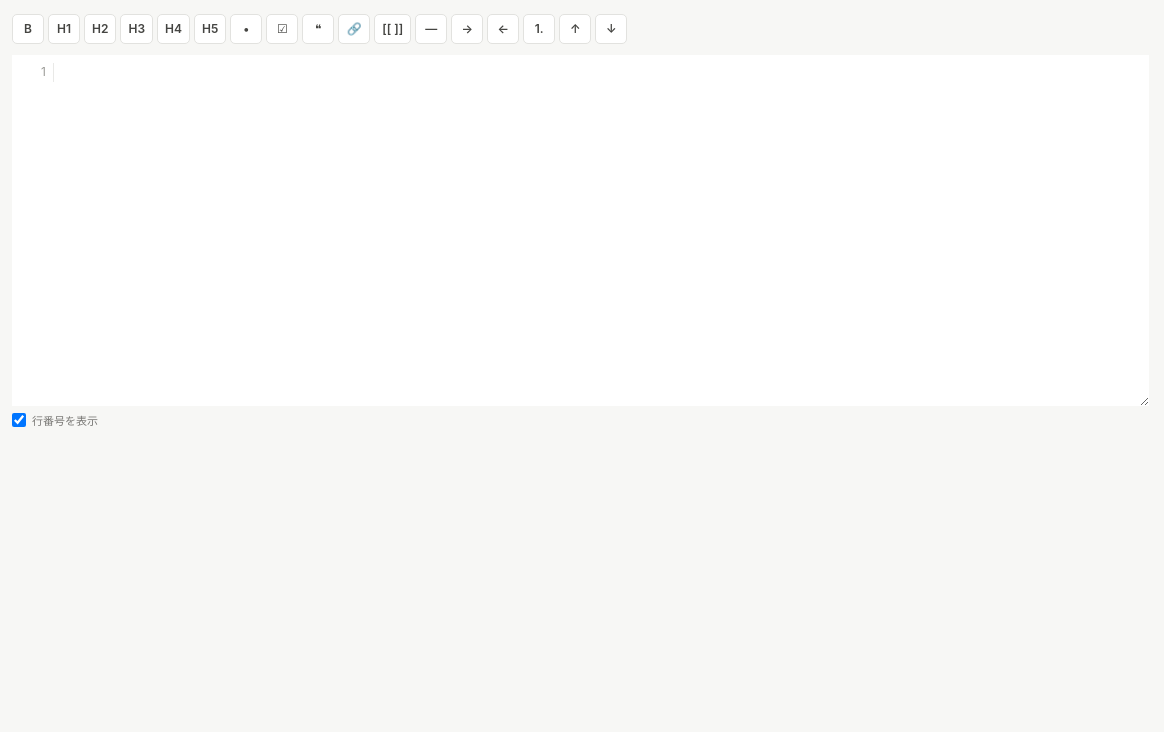
Test: NoteMarkdownEditor and shared Note UI helpers › loads the next bounded candidate page without losing the active query
Type "[ [Atlas" into the text box named "Markdown本文". click: (602, 230)
box: top-left (54, 55), bottom-right (1149, 406)
(page scrolled)
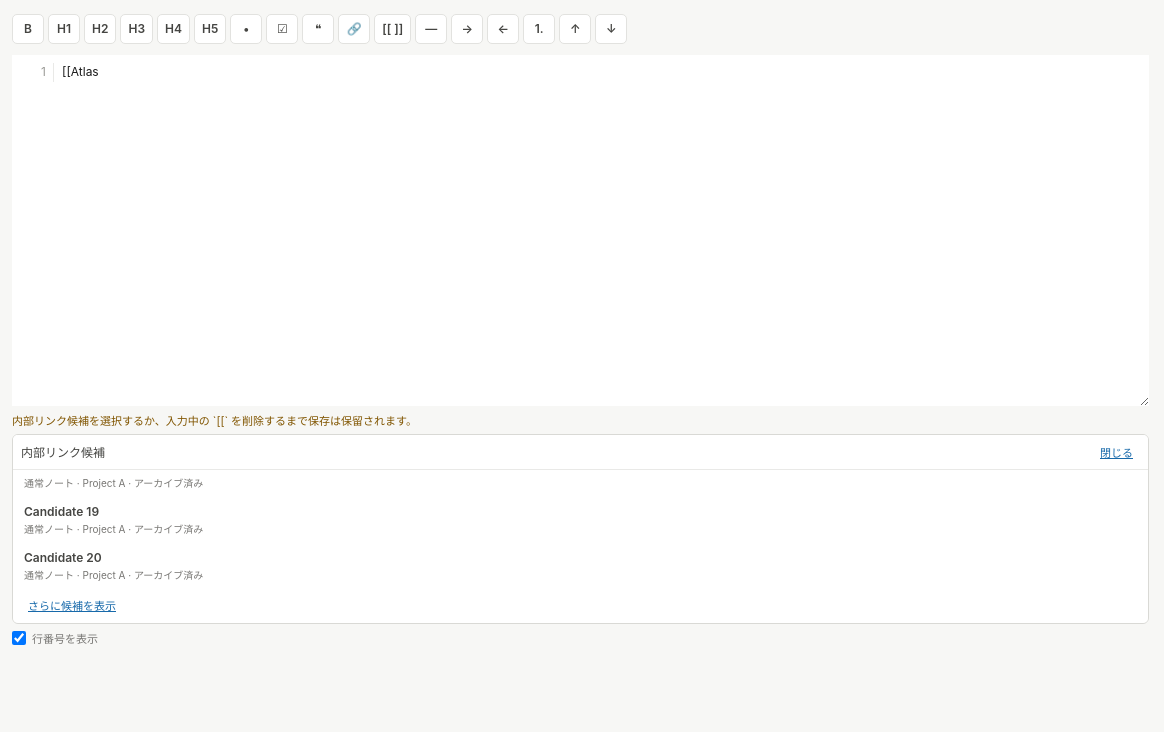
Click the button "さらに候補を表示". click: (72, 605)
box: top-left (21, 594), bottom-right (123, 616)
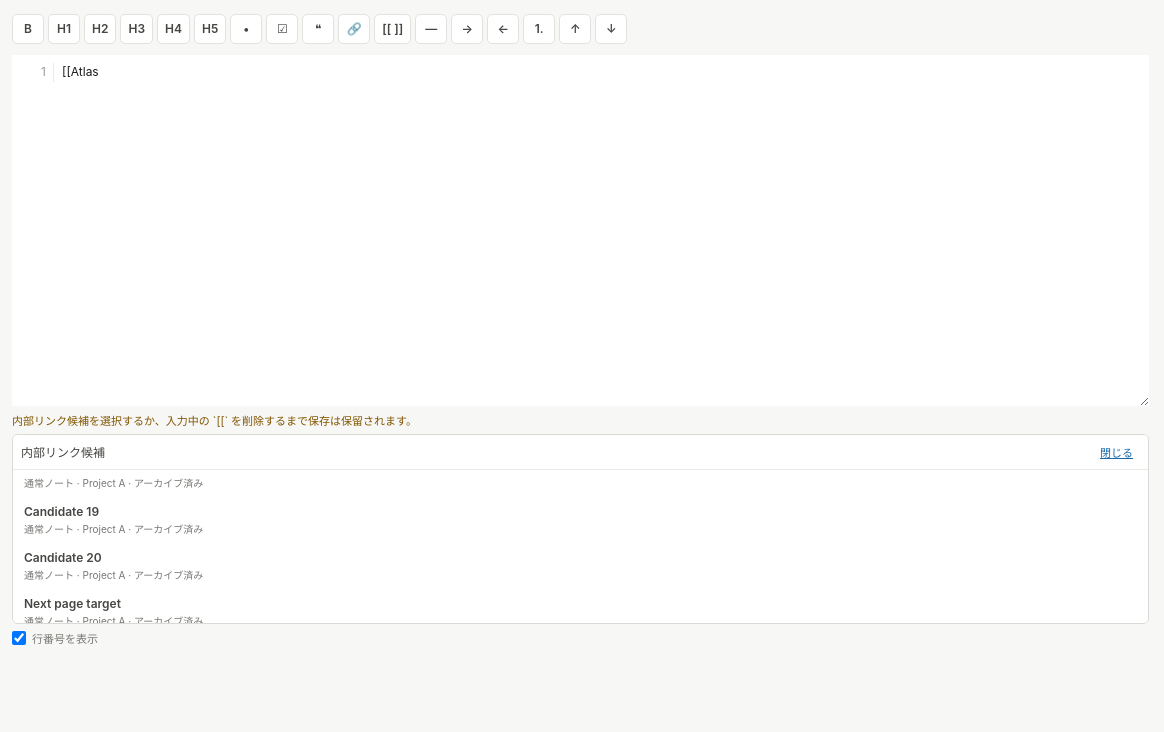
Now the button "Next page target 通常ノート · Project A · アーカイブ済み" is shown, box top-left (17, 590), bottom-right (1144, 624)
